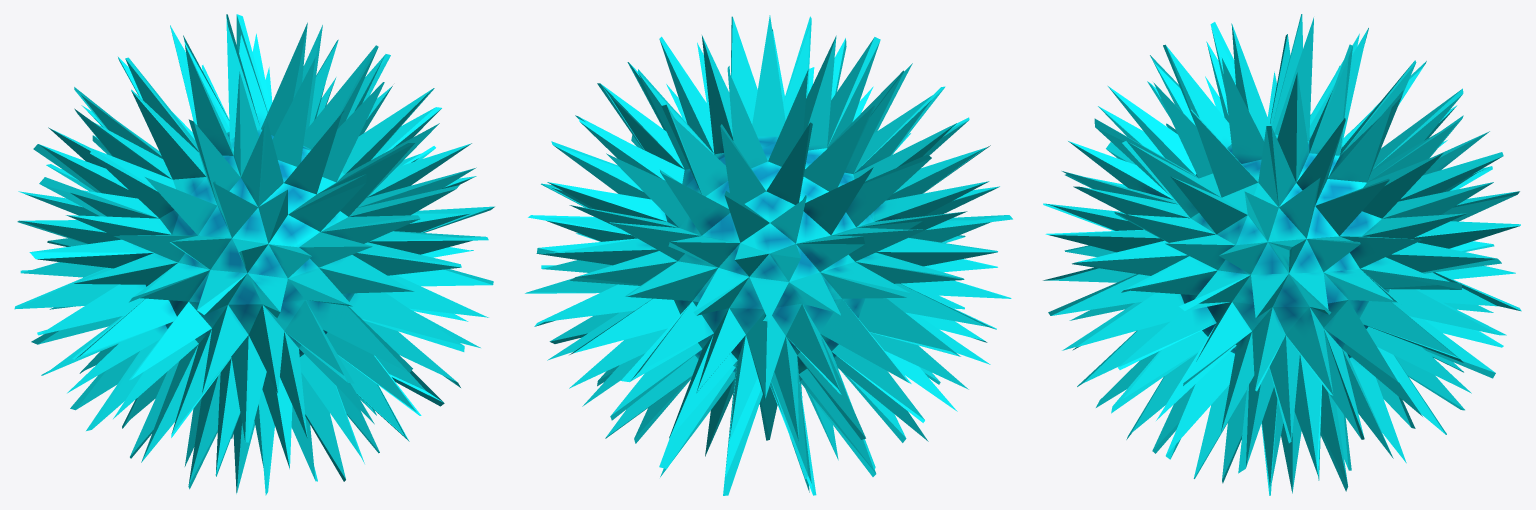
The model's file is art_snowflake.obj.
The picture shows the model from 3 angles, left to right: view 1: azimuth 30°, elevation 25°; view 2: azimuth 150°, elevation 25°; view 3: azimuth 270°, elevation 25°; orthographic projection.
Visible parts, largest first — view 1: art_snowflake_Icosphere; view 2: art_snowflake_Icosphere; view 3: art_snowflake_Icosphere.
Part boxes in pixels (x1,y1,x2,y2): art_snowflake_Icosphere: (14, 14, 494, 495); art_snowflake_Icosphere: (525, 15, 1012, 495); art_snowflake_Icosphere: (1043, 14, 1521, 495).
Size of the model in its own units: 3.92 by 3.83 by 3.9.
